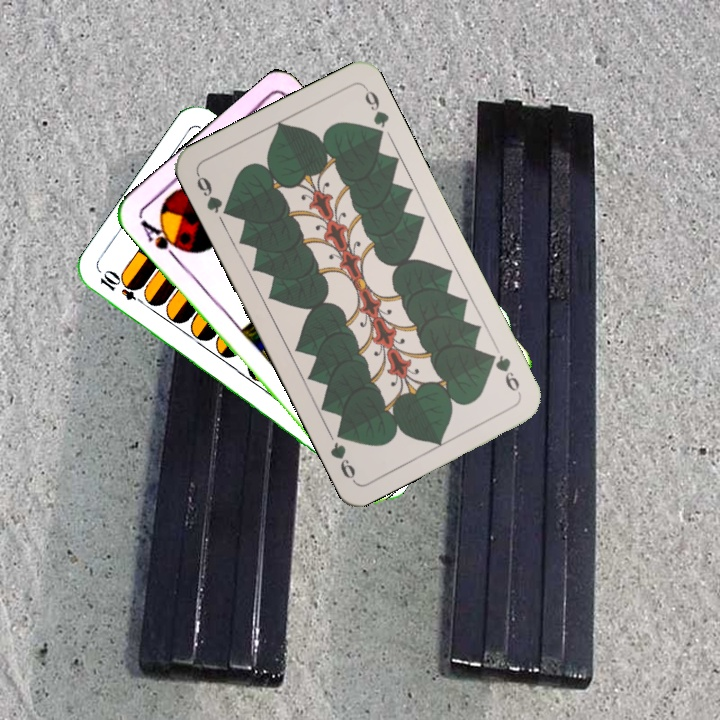E10: (95, 267, 151, 309)
G9: (192, 169, 235, 219), (484, 349, 524, 398)
SA: (136, 215, 187, 263)
